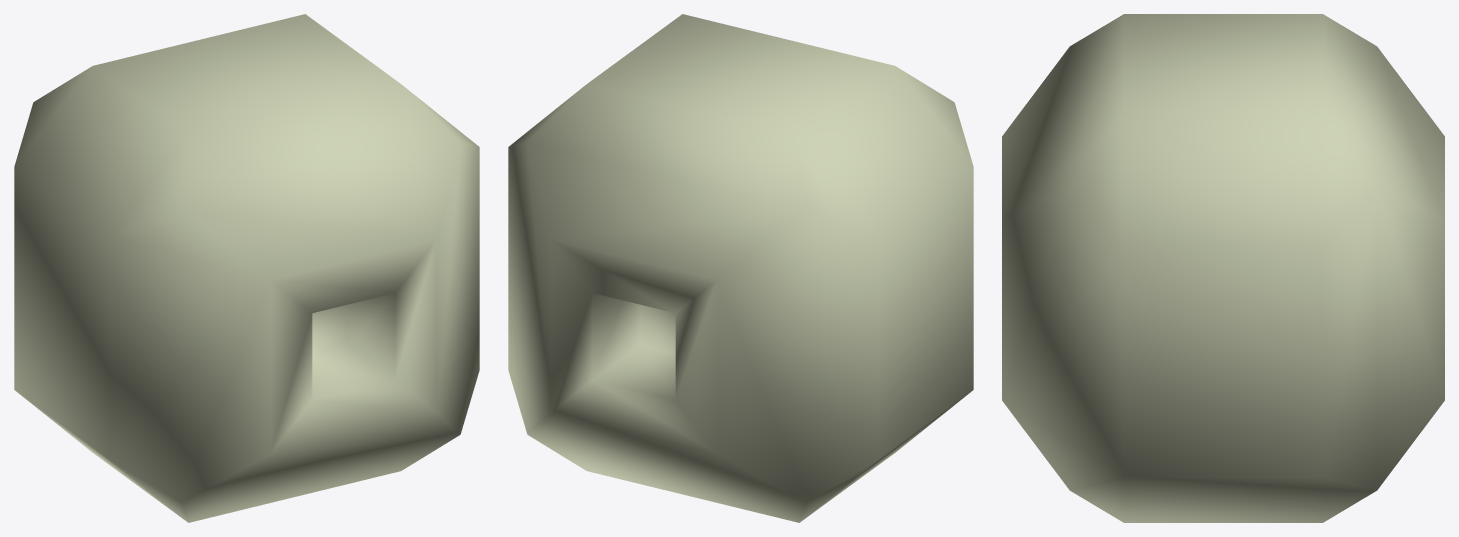
File: Drone.obj
3 views of the same model, side by side, from view 1: azimuth 30°, elevation 25°; view 2: azimuth 150°, elevation 25°; view 3: azimuth 270°, elevation 25° (orthographic). The views are drawn at different scales.
Parts seen in each view (by area): view 1: Cube1; view 2: Cube1; view 3: Cube1.
Part boxes in pixels (x1,y1,x2,y2): Cube1: (14,14,479,522); Cube1: (508,14,973,522); Cube1: (1002,14,1444,522).
Size of the model in its own units: 2 by 2 by 2.
